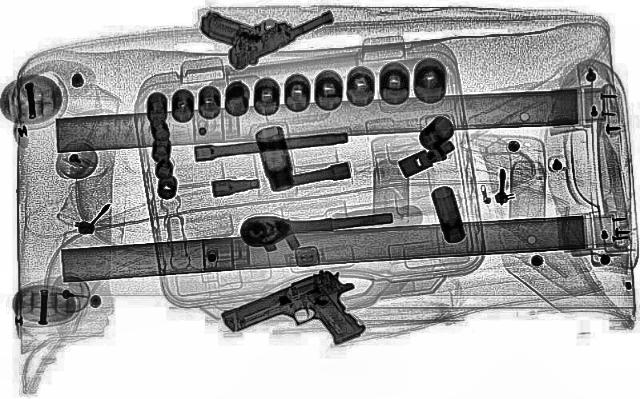Gun: (209, 266, 399, 368), (197, 0, 349, 72)
